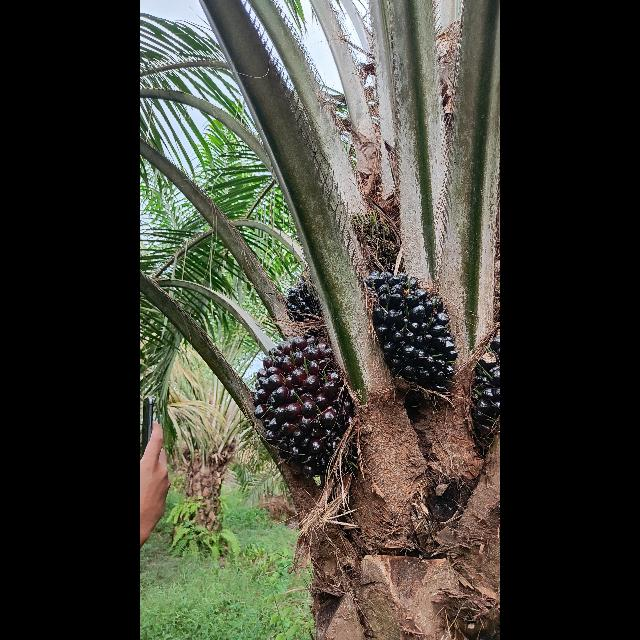Unripe: (253, 338, 352, 483), (369, 267, 463, 402), (473, 337, 500, 451), (282, 279, 321, 325)
